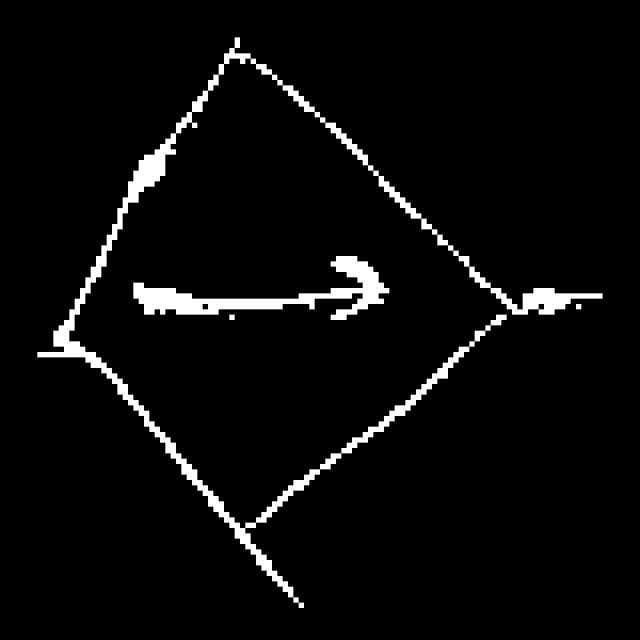dependant_current: (52, 37, 504, 542)
